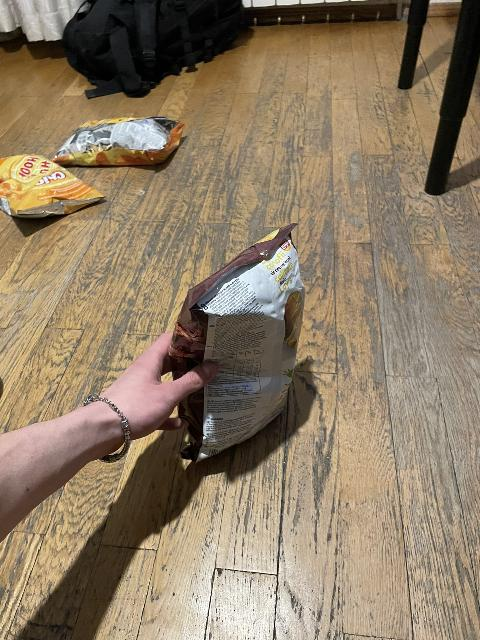Chio Cascaval 125g: (52, 116, 185, 167)
Chio Hula Hoops Cheese 70g: (0, 153, 108, 214)
Lays Beef Grilled Ribs 125g: (168, 227, 303, 445)
